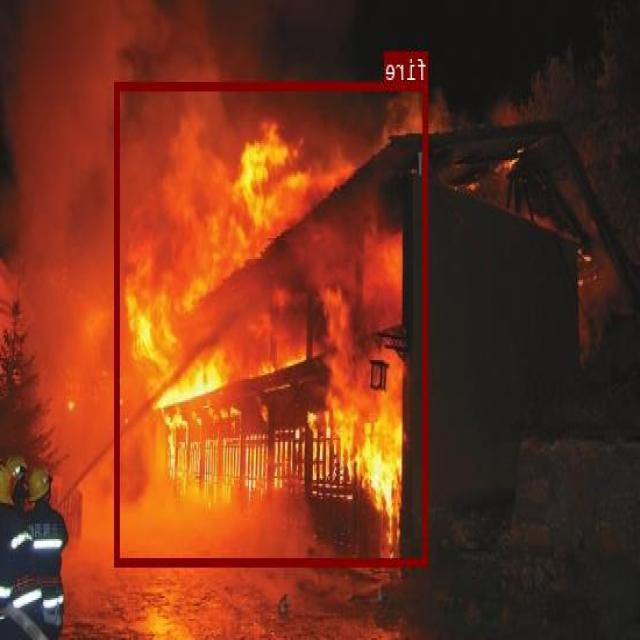fire: (116, 80, 429, 564)
